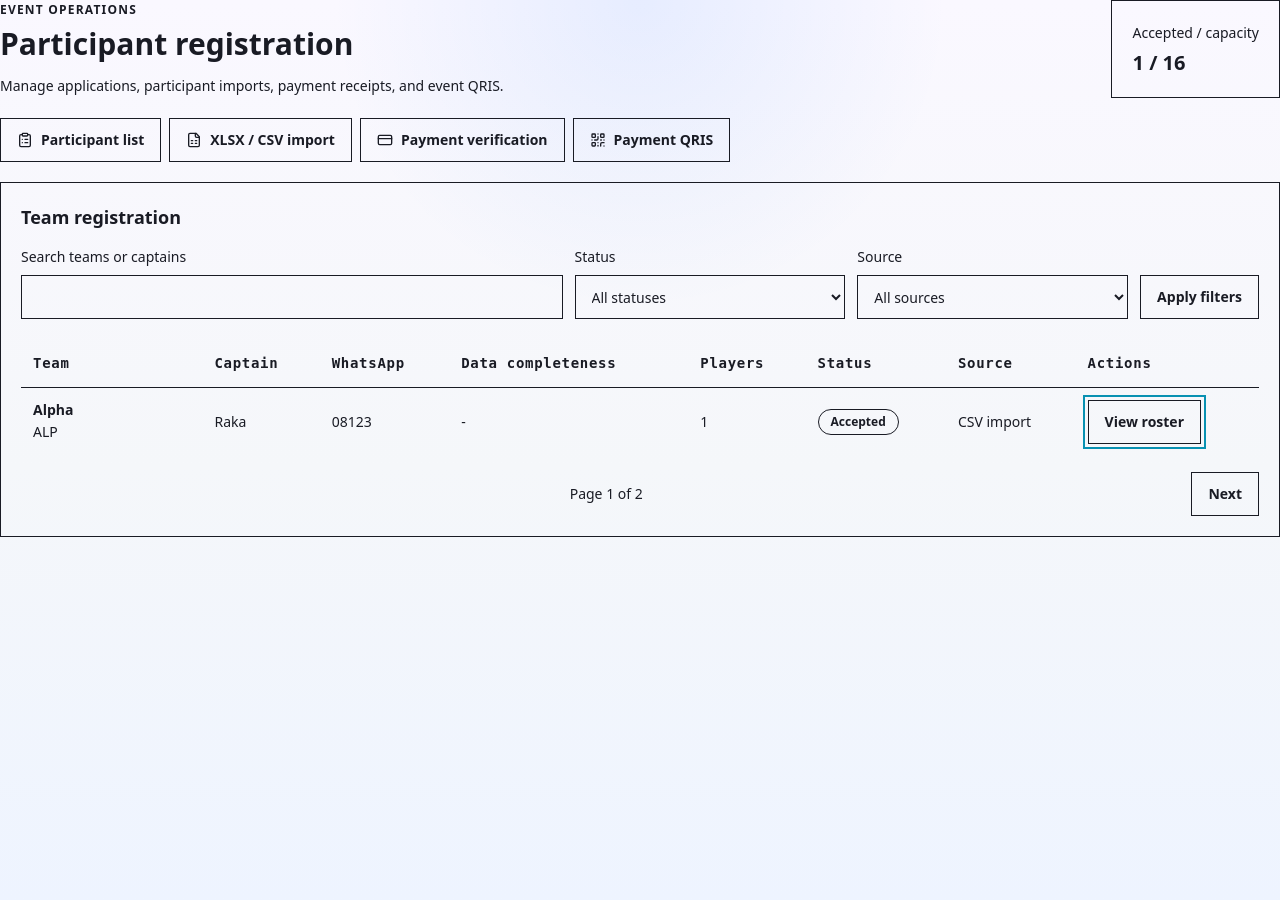
Test case: registration workspace behavior › opens roster details, contains keyboard focus, closes with Escape and restores focus
Click the button "View roster". click: (1144, 422)
box: [1088,400,1201,444]
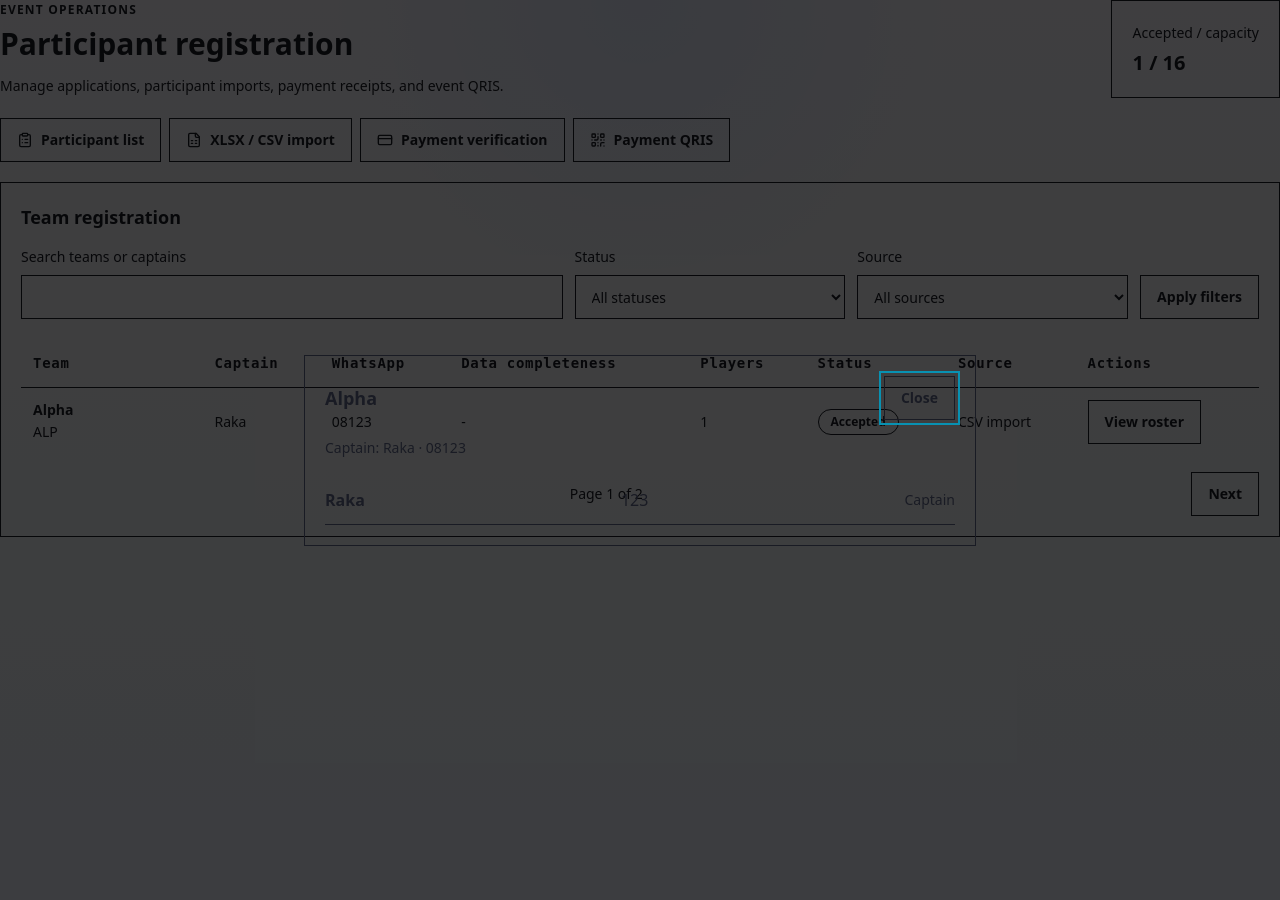
Expected: the dialog shows "123", [621,488,648,510]
Expected: the dialog shows "Captain", [325,438,376,456]
Press Escape in the button "Close", box [884,376,955,420]
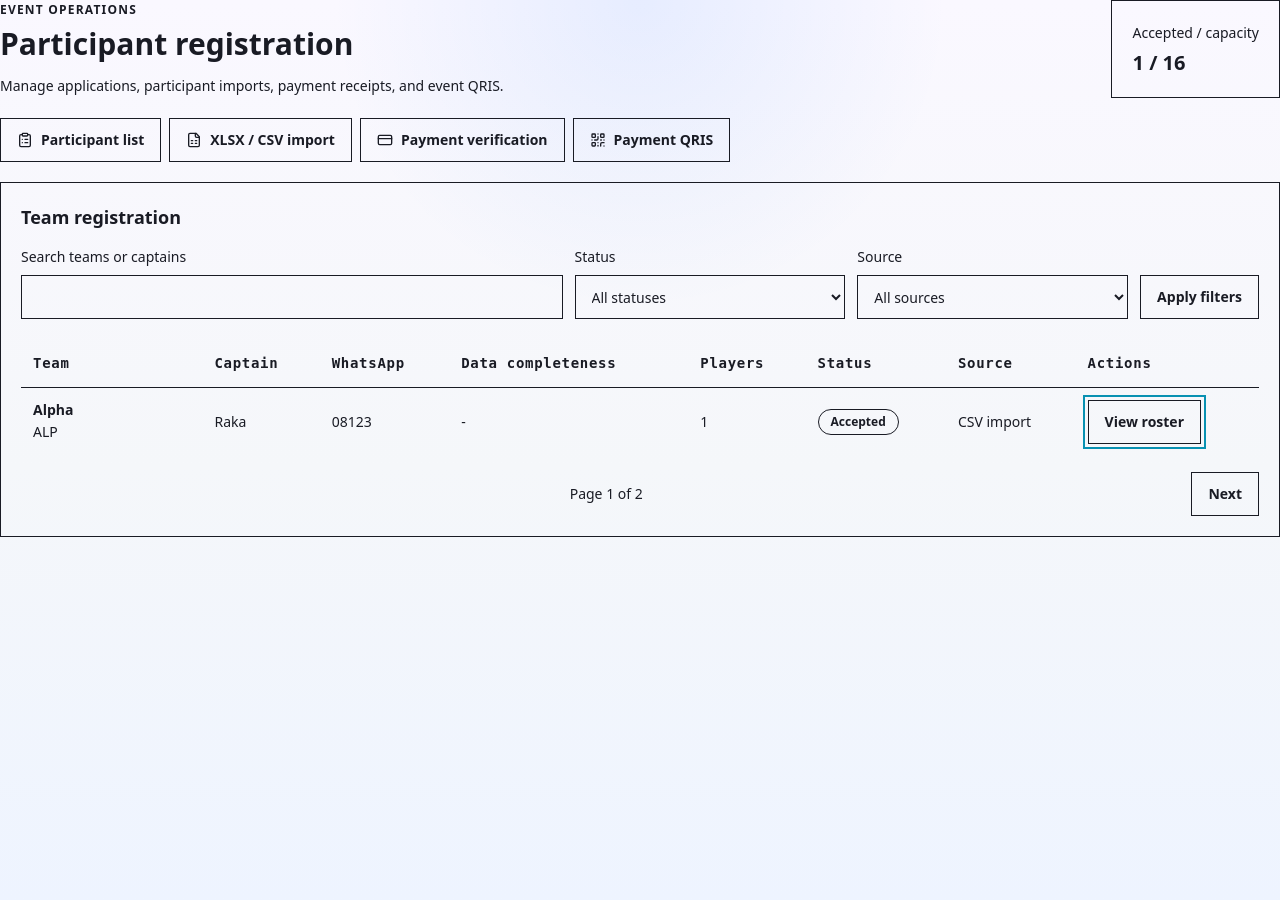
Expected: the dialog is gone
